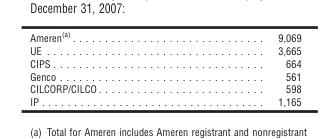table: (29, 29, 300, 107)
table column: (29, 29, 188, 107), (188, 29, 300, 107)
table row: (29, 29, 300, 43), (29, 43, 300, 56), (29, 56, 300, 69), (29, 69, 300, 82), (29, 82, 300, 95), (29, 95, 300, 107)
